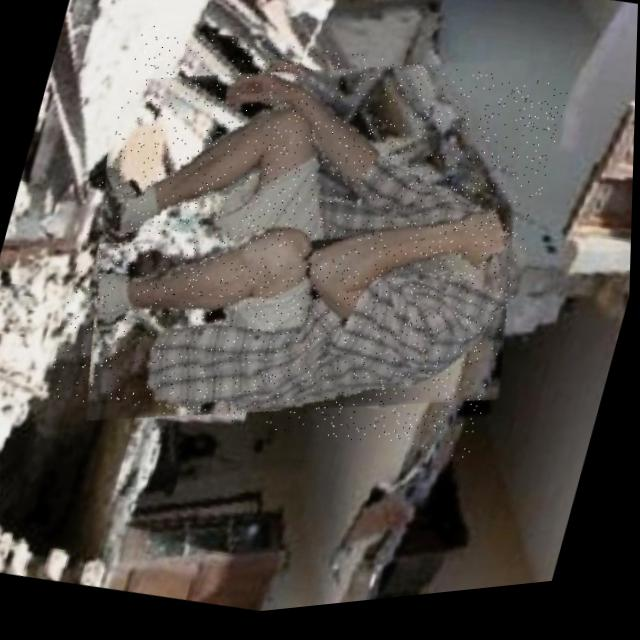Person in Rubble: (41, 0, 573, 504)
